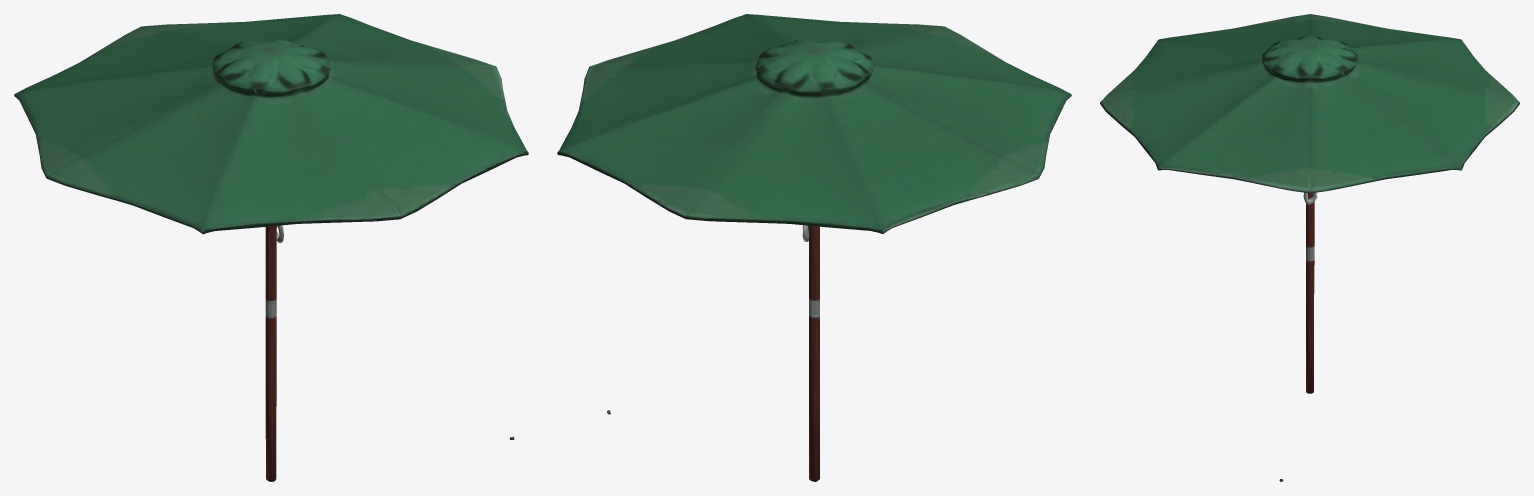
Rendered from Umbrella_Table_Green_7ftTall_0222192250_texture.glb.
3 renders of one model, left to right at view 1: azimuth 30°, elevation 25°; view 2: azimuth 150°, elevation 25°; view 3: azimuth 270°, elevation 25°, orthographic. The views are drawn at different scales.
Parts seen in each view (by area): view 1: Mesh_0; view 2: Mesh_0; view 3: Mesh_0.
Part boxes in pixels (x1,y1,x2,y2): Mesh_0: (14, 14, 528, 481); Mesh_0: (557, 14, 1071, 481); Mesh_0: (1100, 14, 1519, 481).
Bounding box in the file's own units: 2.33 × 2.13 × 2.33.
1 material, 1 textured.
